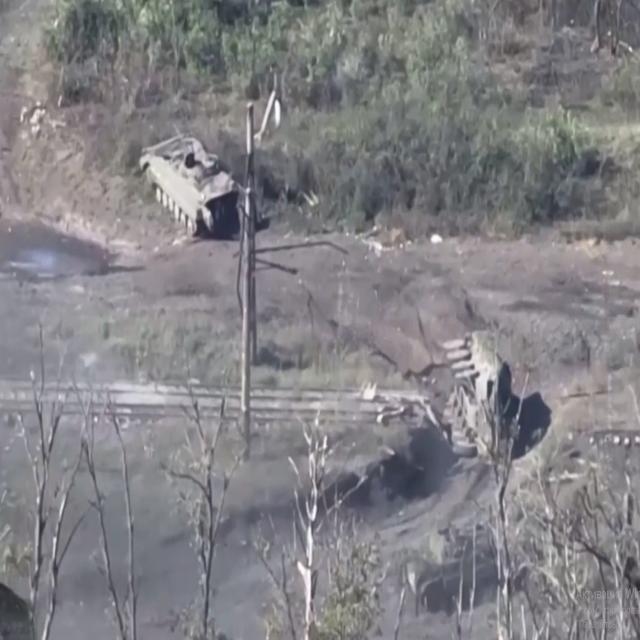AIFV: (138, 122, 244, 241), (400, 519, 515, 617)
APC: (441, 328, 515, 465)
